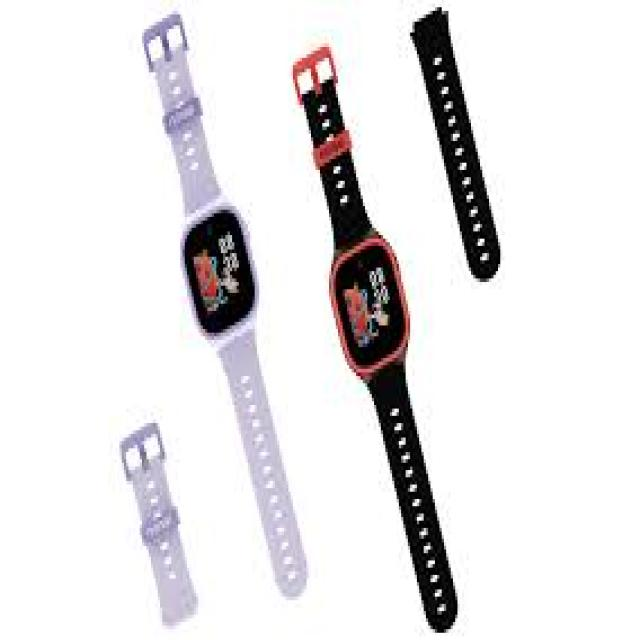objects: (140, 10, 310, 602), (293, 47, 461, 634), (410, 7, 500, 278), (120, 423, 199, 626)
